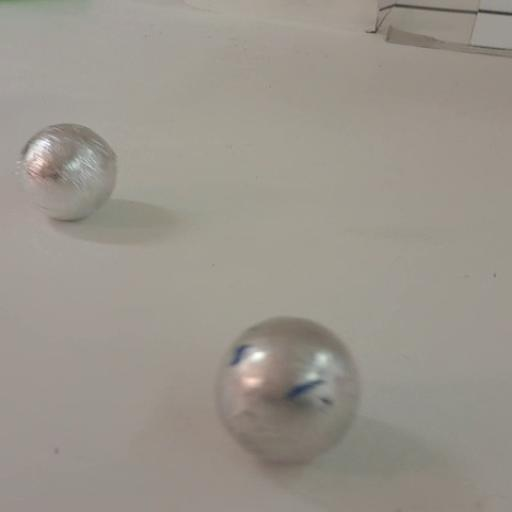alive: (211, 313, 366, 470), (15, 122, 120, 222)
